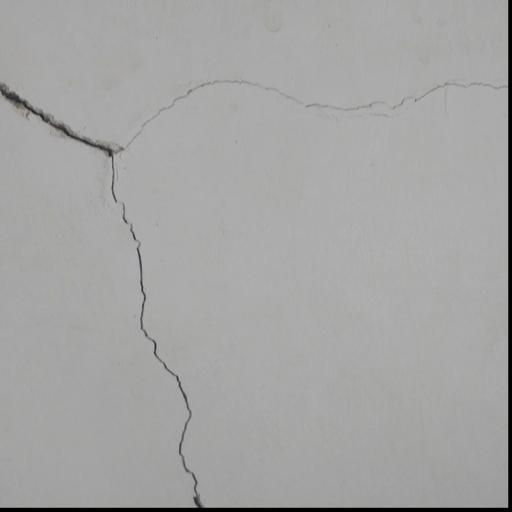minor_crack: (0, 55, 512, 512)
